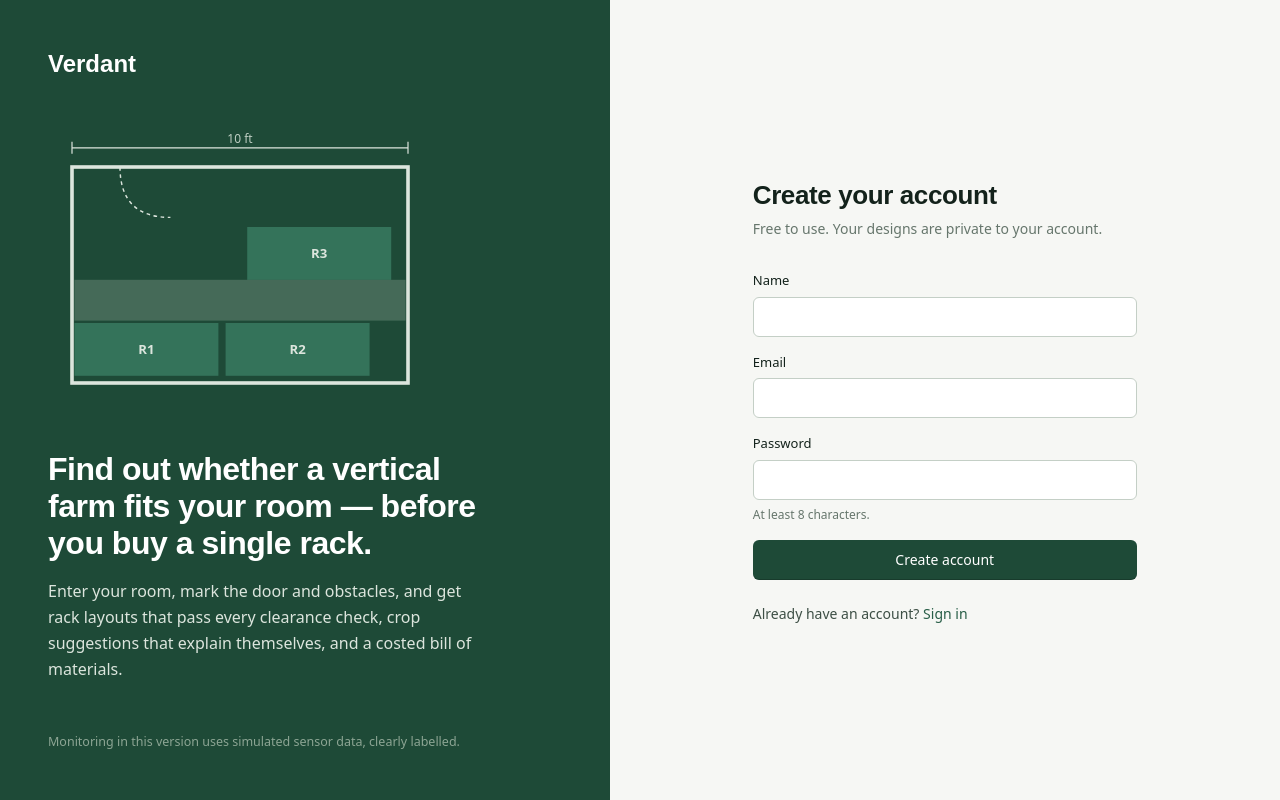
AuthPage › shows field errors without calling the API
Click the button "Create account": point(945, 560) [753,540,1137,580]
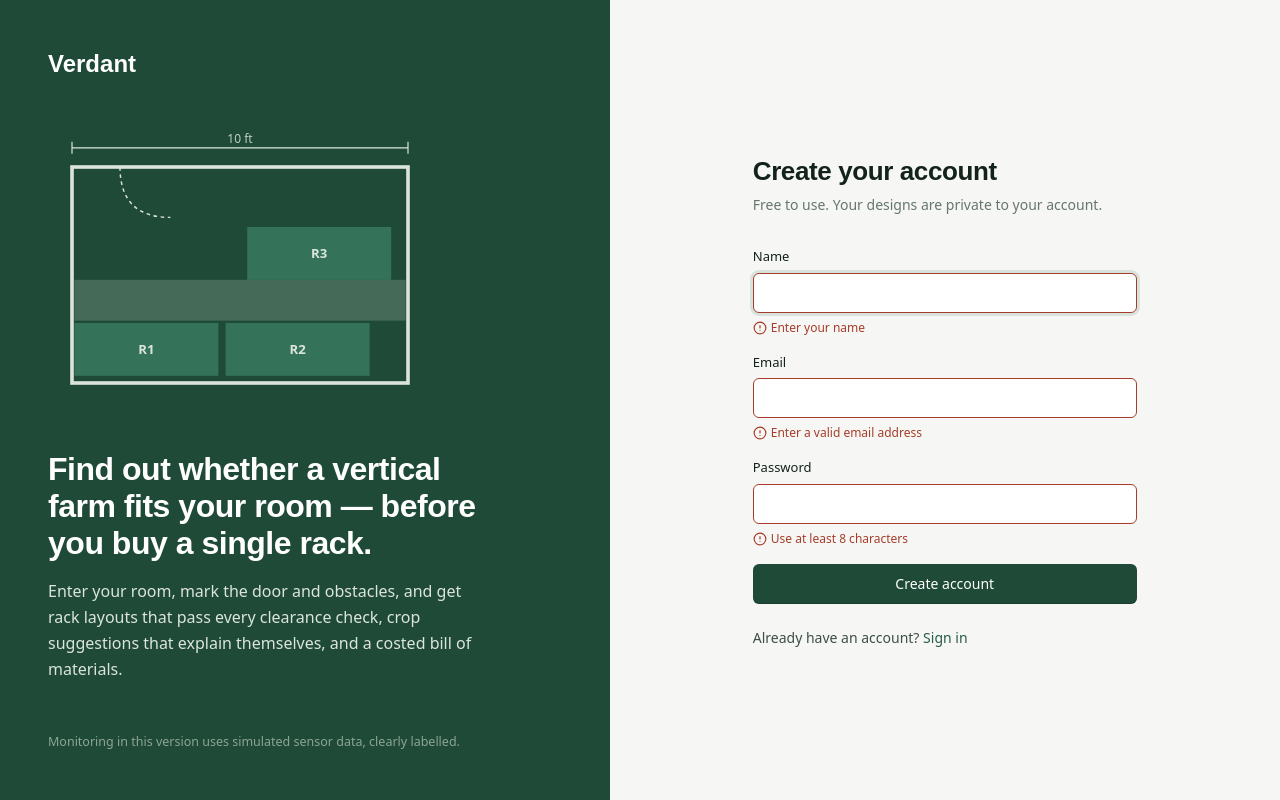
expect the text "Enter your name" is shown: met, box [753,319,865,336]
expect the text "Enter a valid email address" is shown: met, box [753,424,922,441]
expect the text "Use at least 8 characters" is shown: met, box [753,530,908,547]
